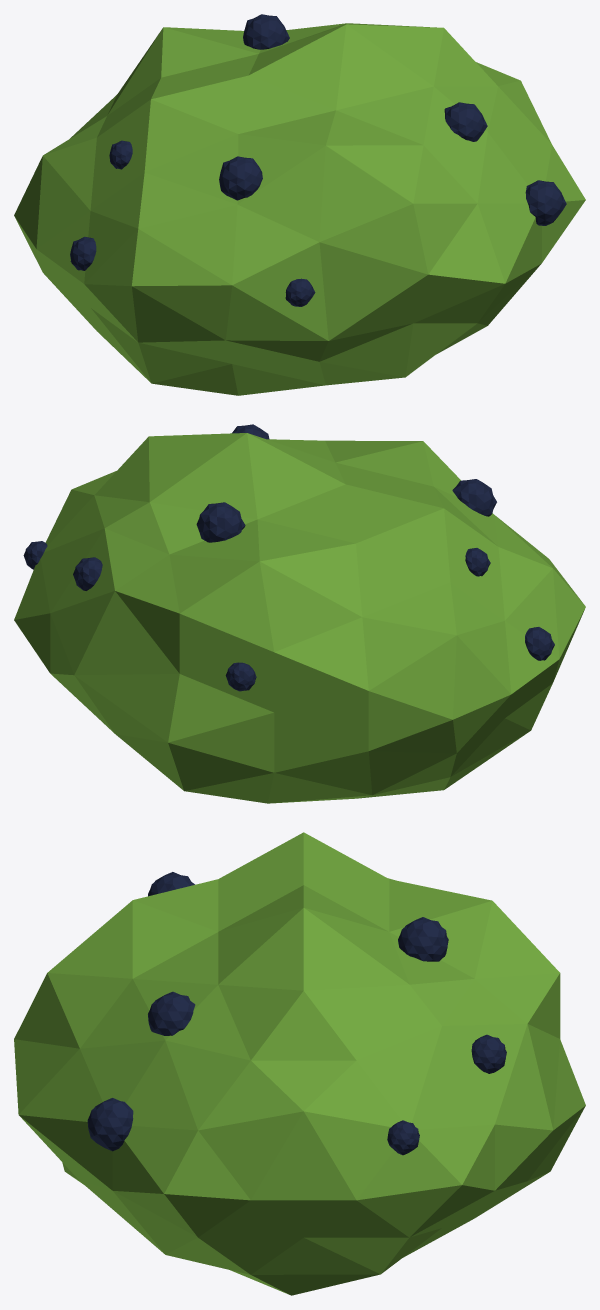
Rendered from Blaubeerbusch.fbx.
3 views of the same model, one above another, from view 1: azimuth 30°, elevation 25°; view 2: azimuth 150°, elevation 25°; view 3: azimuth 270°, elevation 25° (orthographic). The views are drawn at different scales.
Visible parts, largest first — view 1: Busch_, Blaubeeren; view 2: Busch_, Blaubeeren; view 3: Busch_, Blaubeeren.
Boxes of the visible parts, box(x1,y1,x2,y2) form: Busch_: box(14, 23, 585, 395); Blaubeeren: box(70, 14, 566, 306); Busch_: box(14, 433, 585, 803); Blaubeeren: box(23, 424, 554, 691); Busch_: box(14, 832, 585, 1295); Blaubeeren: box(87, 872, 506, 1155).
Size of the model in its own units: 171 by 112 by 160.
